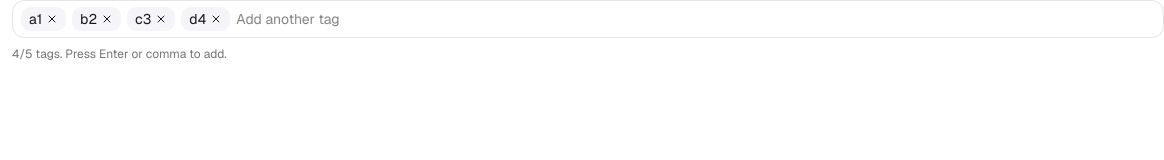
Test case: TagInput › stops at five tags
The width and height of the screenshot is (1164, 160).
Type "e5" into the dropdown at [696, 19], box [236, 9, 1155, 29]
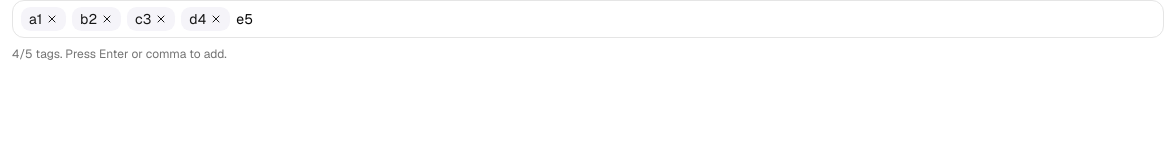
Press Enter in the dropdown, box [236, 9, 1155, 29]
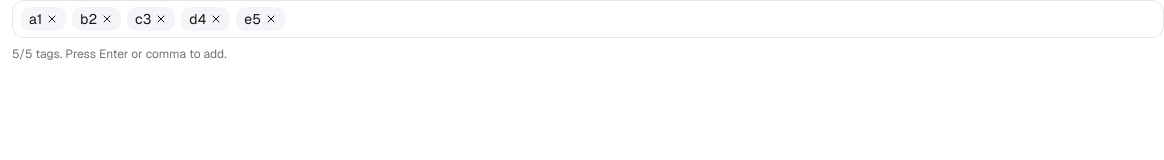
Now the text "e5" is shown, box [236, 7, 285, 31]
Now the text "5/5 tags. Press Enter or comma to add." is shown, box [12, 46, 227, 62]
